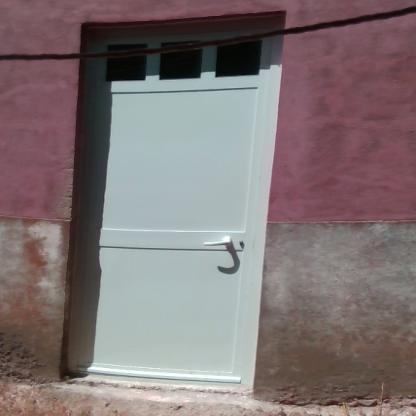door: (84, 29, 252, 392)
lever: (200, 239, 236, 249)
